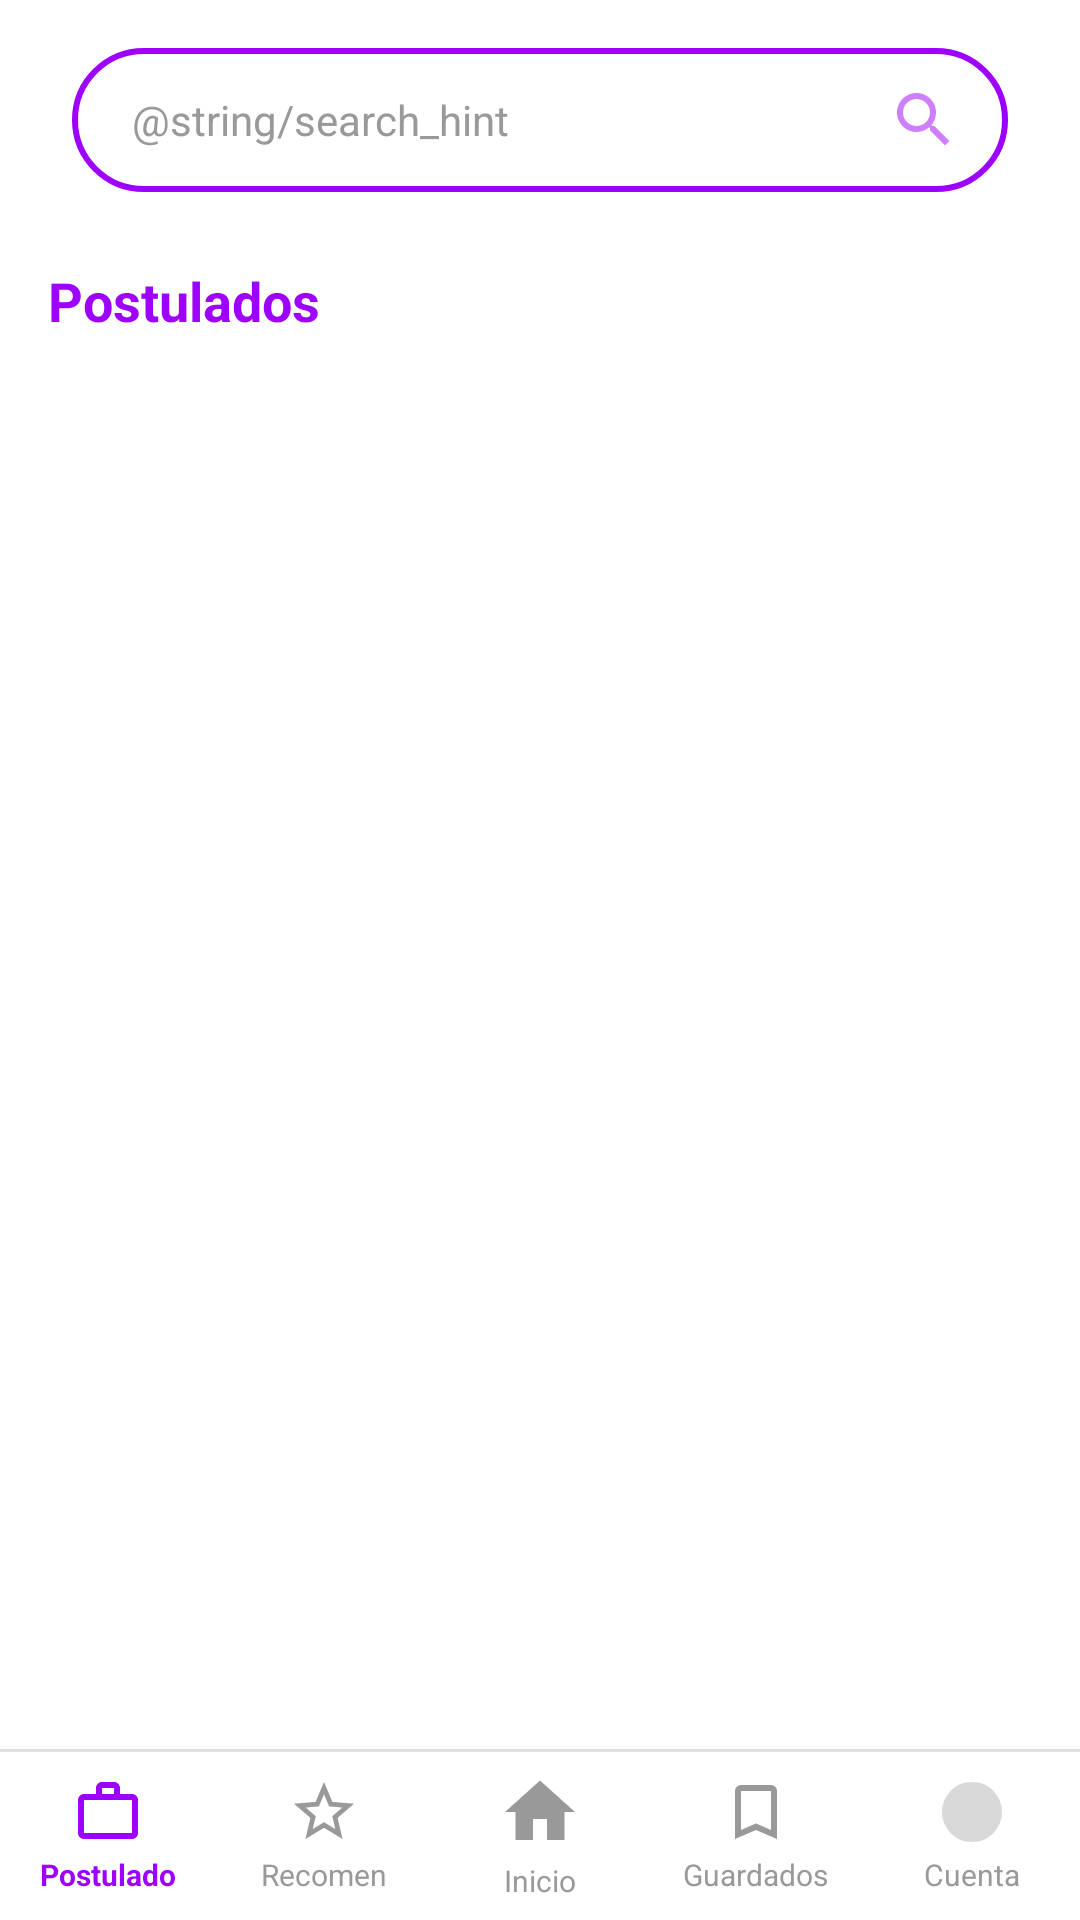

Point at icon controls on the screen. Image size 1080×1920, points as (x=x, y=y).
Search: (x=923, y=119)
